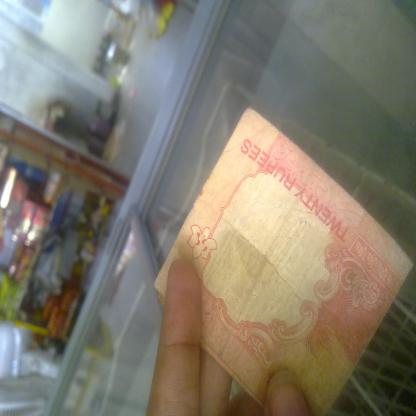Old20Back: (164, 112, 412, 414)
